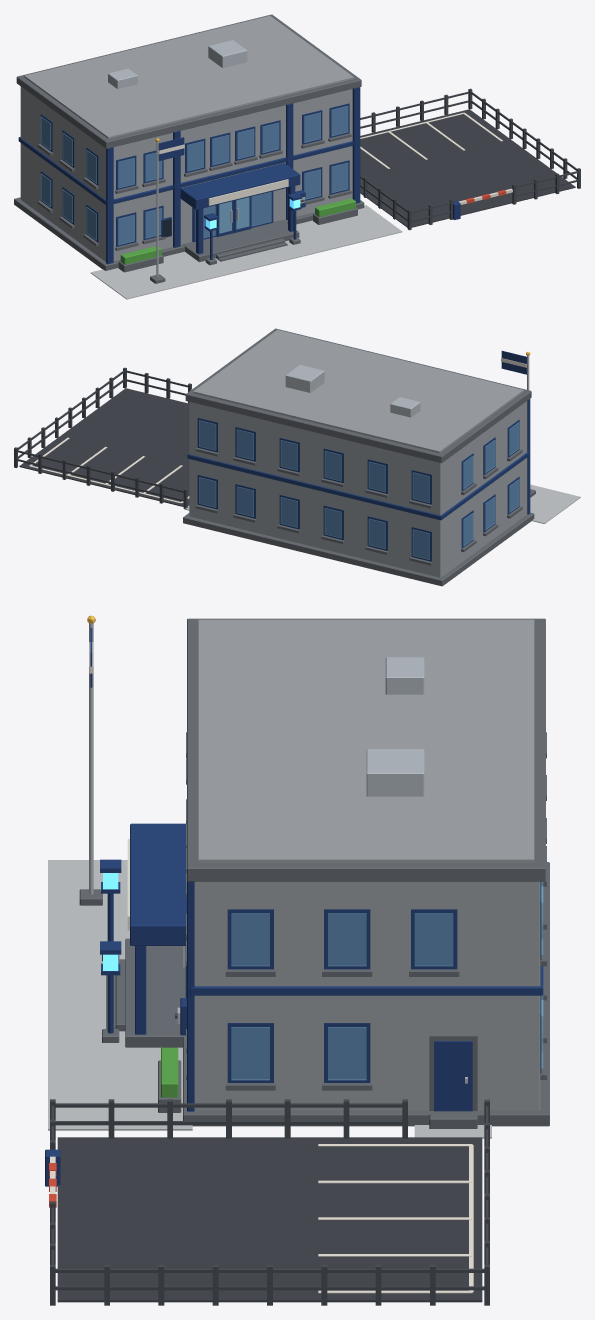
Rendered from town-police-station.glb.
3 views of the same model, one above another, from view 1: azimuth 30°, elevation 25°; view 2: azimuth 150°, elevation 25°; view 3: azimuth 270°, elevation 25° (orthographic). The views are drawn at different scales.
Parts seen in each view (by area): view 1: RoofDeck, Walls, CarPark, Pavement, RoofCap, Canopy, Landing, FloorBand, Storefront_Frame, Plinth, Pilaster_+30, Pilaster_-30 (+44 smaller); view 2: Walls, RoofDeck, CarPark, RoofCap, Plinth, FloorBand, Pavement, RoofUnit_A, WinFrame_back_-26_5, WinFrame_back_+6_18, WinFrame_back_+16_5, WinFrame_back_+16_18 (+31 smaller); view 3: RoofDeck, CarPark, Walls, Pavement, RoofCap, Canopy, Plinth, Landing, FloorBand, WinFrame_east_+6_18, WinFrame_east_+16_18, WinFrame_east_+25_18 (+20 smaller).
Part boxes in pixels (box(x1,y1,x2,y2)): RoofDeck: box(24, 16, 353, 138); Walls: box(20, 86, 352, 261); CarPark: box(360, 109, 575, 227); Pavement: box(90, 205, 402, 299); RoofCap: box(16, 14, 361, 148); Canopy: box(180, 163, 300, 209); Landing: box(182, 220, 299, 262); FloorBand: box(18, 137, 353, 205); Storefront_Frame: box(192, 191, 273, 242); Plinth: box(14, 197, 364, 270); Pilaster_+30: box(352, 87, 360, 203); Pilaster_-30: box(106, 147, 113, 264); Walls: box(189, 401, 527, 577); RoofDeck: box(193, 330, 523, 453); CarPark: box(19, 388, 189, 506); RoofCap: box(185, 328, 531, 463); Plinth: box(183, 512, 534, 586); FloorBand: box(187, 452, 529, 520); Pavement: box(530, 484, 580, 523); RoofUnit_A: box(285, 365, 324, 392); WinFrame_back_-26_5: box(411, 527, 431, 561); WinFrame_back_+6_18: box(279, 438, 299, 472); WinFrame_back_+16_5: box(235, 484, 255, 518); WinFrame_back_+16_18: box(235, 427, 255, 461); RoofDeck: box(198, 619, 534, 862); CarPark: box(57, 1137, 482, 1302); Walls: box(194, 881, 540, 1110); Pavement: box(48, 860, 192, 1130); RoofCap: box(187, 618, 545, 881); Canopy: box(130, 823, 186, 945); Plinth: box(183, 862, 549, 1126); Landing: box(125, 938, 185, 1047); FloorBand: box(190, 930, 543, 995); WinFrame_east_+6_18: box(227, 909, 273, 969); WinFrame_east_+16_18: box(324, 909, 370, 969); WinFrame_east_+25_18: box(411, 909, 457, 969).
Size of the model in its own units: 109 by 32.8 by 52.3.
